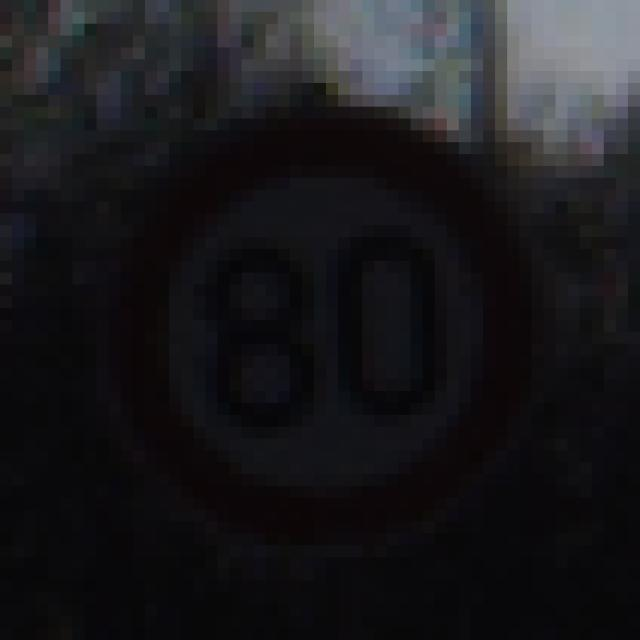Ograniczenie predkosci do 80: (107, 111, 532, 536)
